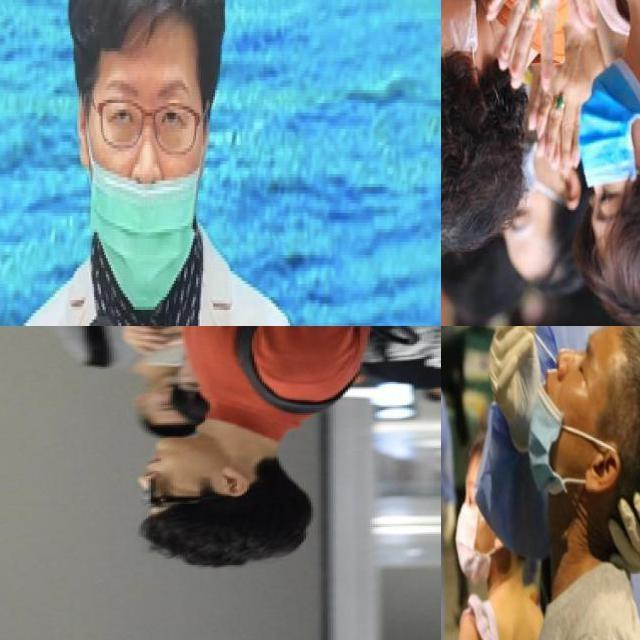hairnet: (90, 143, 198, 259), (528, 333, 576, 491)
